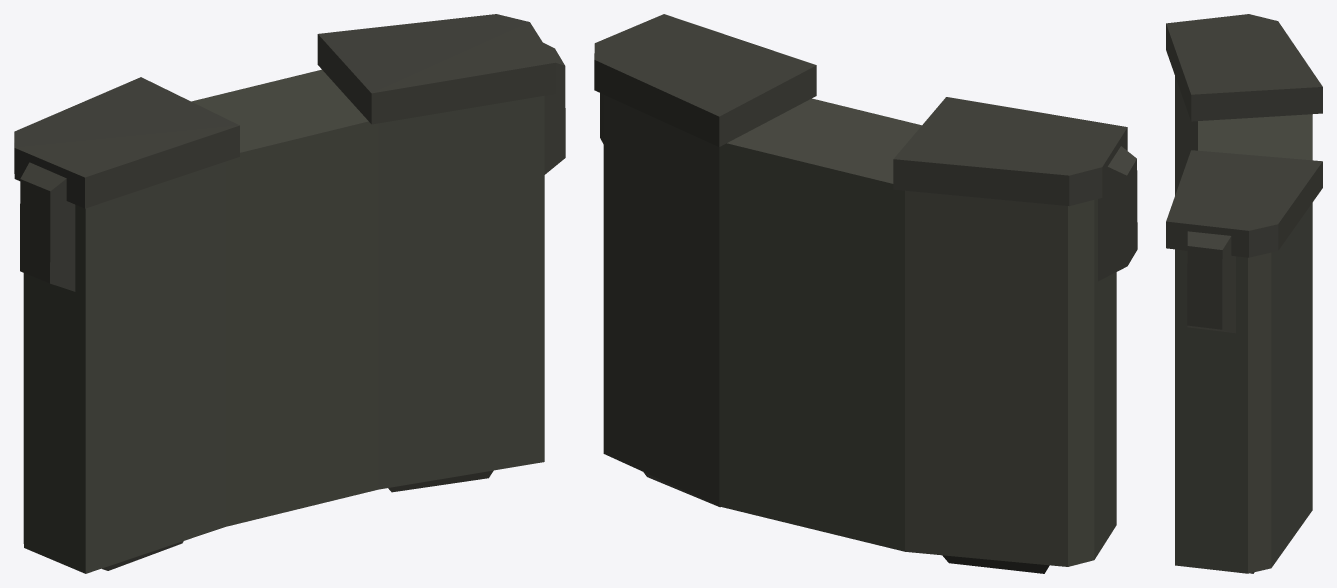
File: SM_Chr_Attach_Battery_01.fbx
3 views of the same model, side by side, from view 1: azimuth 30°, elevation 25°; view 2: azimuth 150°, elevation 25°; view 3: azimuth 270°, elevation 25° (orthographic). The views are drawn at different scales.
Visible parts, largest first — view 1: SM_Chr_Attach_Battery_01; view 2: SM_Chr_Attach_Battery_01; view 3: SM_Chr_Attach_Battery_01.
Part boxes in pixels (<box>): SM_Chr_Attach_Battery_01: <box>14,14,565,573</box>; SM_Chr_Attach_Battery_01: <box>594,14,1137,573</box>; SM_Chr_Attach_Battery_01: <box>1166,14,1322,573</box>.
Bounding box in the file's own units: 13.23 × 10.07 × 3.89.
